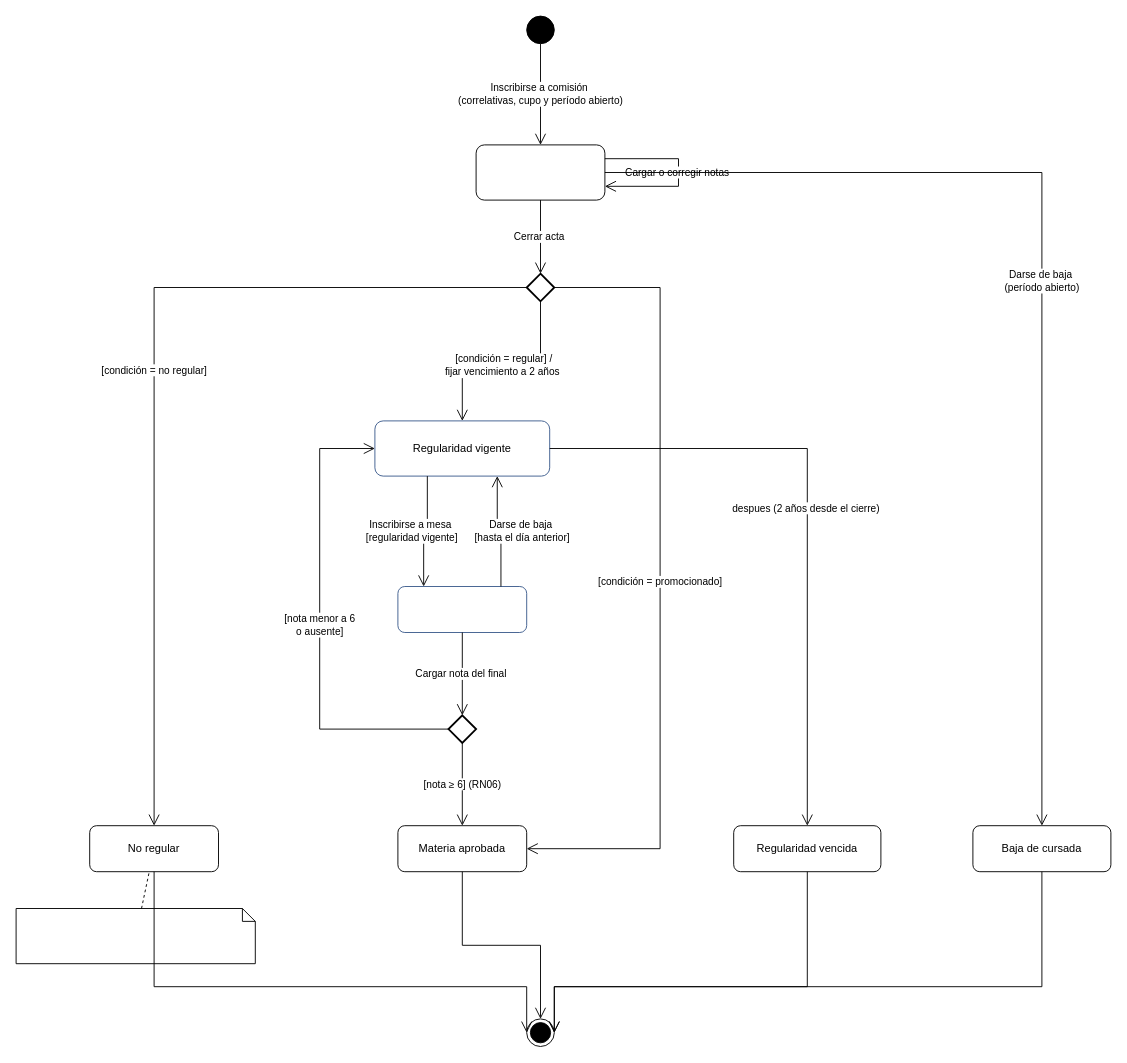
Image size: 1127x1063. Some labels were removed from this diagram. Each missing label, with the centre of its shape:
"Cursando (acta abierta)" goes at point (540, 172).
"Inscripto a final" goes at point (462, 609).
"Para volver a cursar, el estudiante se inscribe de nuevo a la comisión" goes at point (135, 936).
